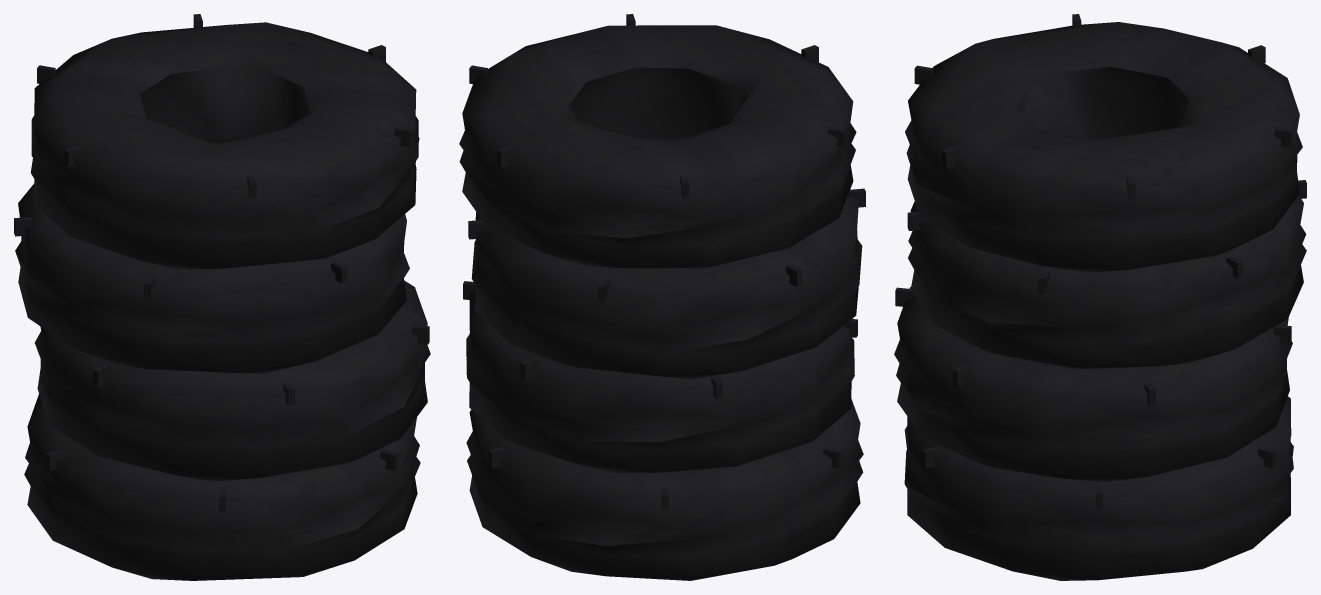
The model's file is pilha-de-pneus-4-leve.glb.
3 renders of one model, left to right at view 1: azimuth 30°, elevation 25°; view 2: azimuth 150°, elevation 25°; view 3: azimuth 270°, elevation 25°, orthographic.
Parts seen in each view (by area): view 1: pneu-3, pneu-1, pneu-2, pneu-0; view 2: pneu-3, pneu-0, pneu-2, pneu-1; view 3: pneu-3, pneu-1, pneu-0, pneu-2.
Part boxes in pixels (x1=…): pneu-3: x1=30, y1=22, x2=419, y2=269; pneu-1: x1=34, y1=280, x2=430, y2=481; pneu-2: x1=15, y1=183, x2=409, y2=373; pneu-0: x1=24, y1=394, x2=420, y2=580; pneu-3: x1=459, y1=25, x2=856, y2=268; pneu-0: x1=466, y1=399, x2=863, y2=580; pneu-2: x1=471, y1=195, x2=862, y2=379; pneu-1: x1=466, y1=291, x2=854, y2=472; pneu-3: x1=905, y1=22, x2=1302, y2=272; pneu-1: x1=894, y1=287, x2=1292, y2=482; pneu-0: x1=904, y1=396, x2=1293, y2=580; pneu-2: x1=908, y1=196, x2=1306, y2=369.
Bounding box in the file's own units: 0.7152 × 0.8006 × 0.7191.
1 material, 1 textured.
